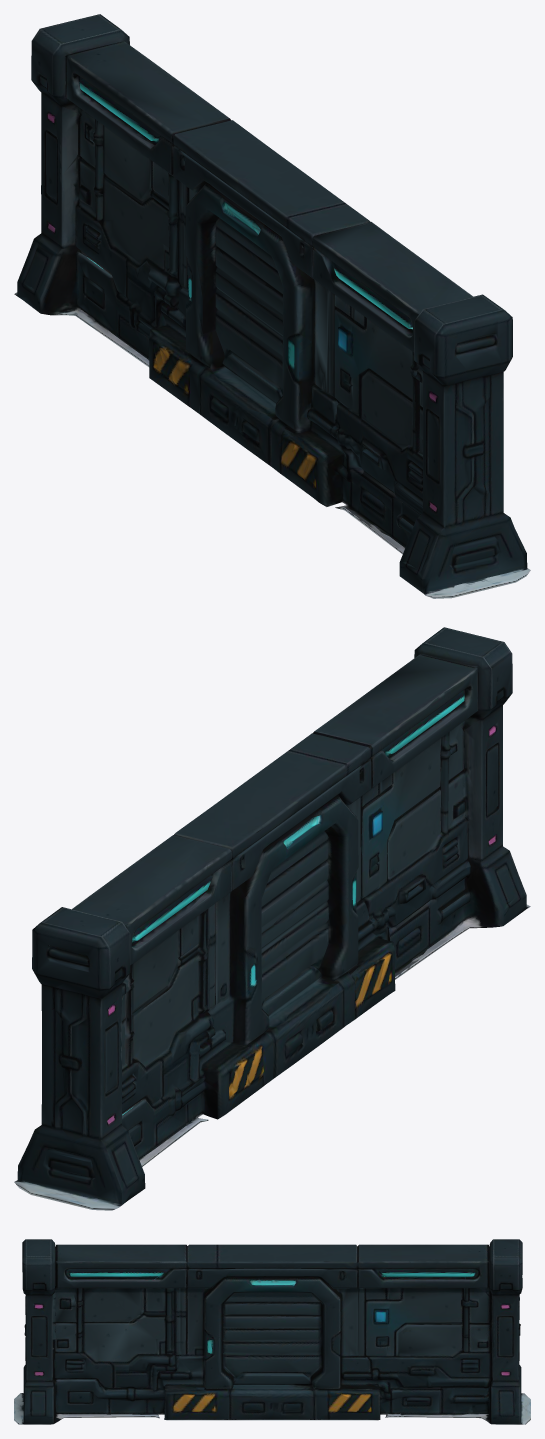
Rendered from Wall02Zone2.fbx.
3 renders of one model, top to bottom at view 1: azimuth 30°, elevation 25°; view 2: azimuth 150°, elevation 25°; view 3: azimuth 270°, elevation 25°, orthographic. The views are drawn at different scales.
Parts seen in each view (by area): view 1: tripo_node_b7a0acd6; view 2: tripo_node_b7a0acd6; view 3: tripo_node_b7a0acd6.
Boxes of the visible parts, x1,y1,x2,y2 form: tripo_node_b7a0acd6: (14, 14, 530, 598); tripo_node_b7a0acd6: (14, 627, 530, 1210); tripo_node_b7a0acd6: (14, 1239, 530, 1424).
Size of the model in its own units: 0.1442 by 0.3473 by 0.9998.
Materials: 1 (1 with a texture image).
